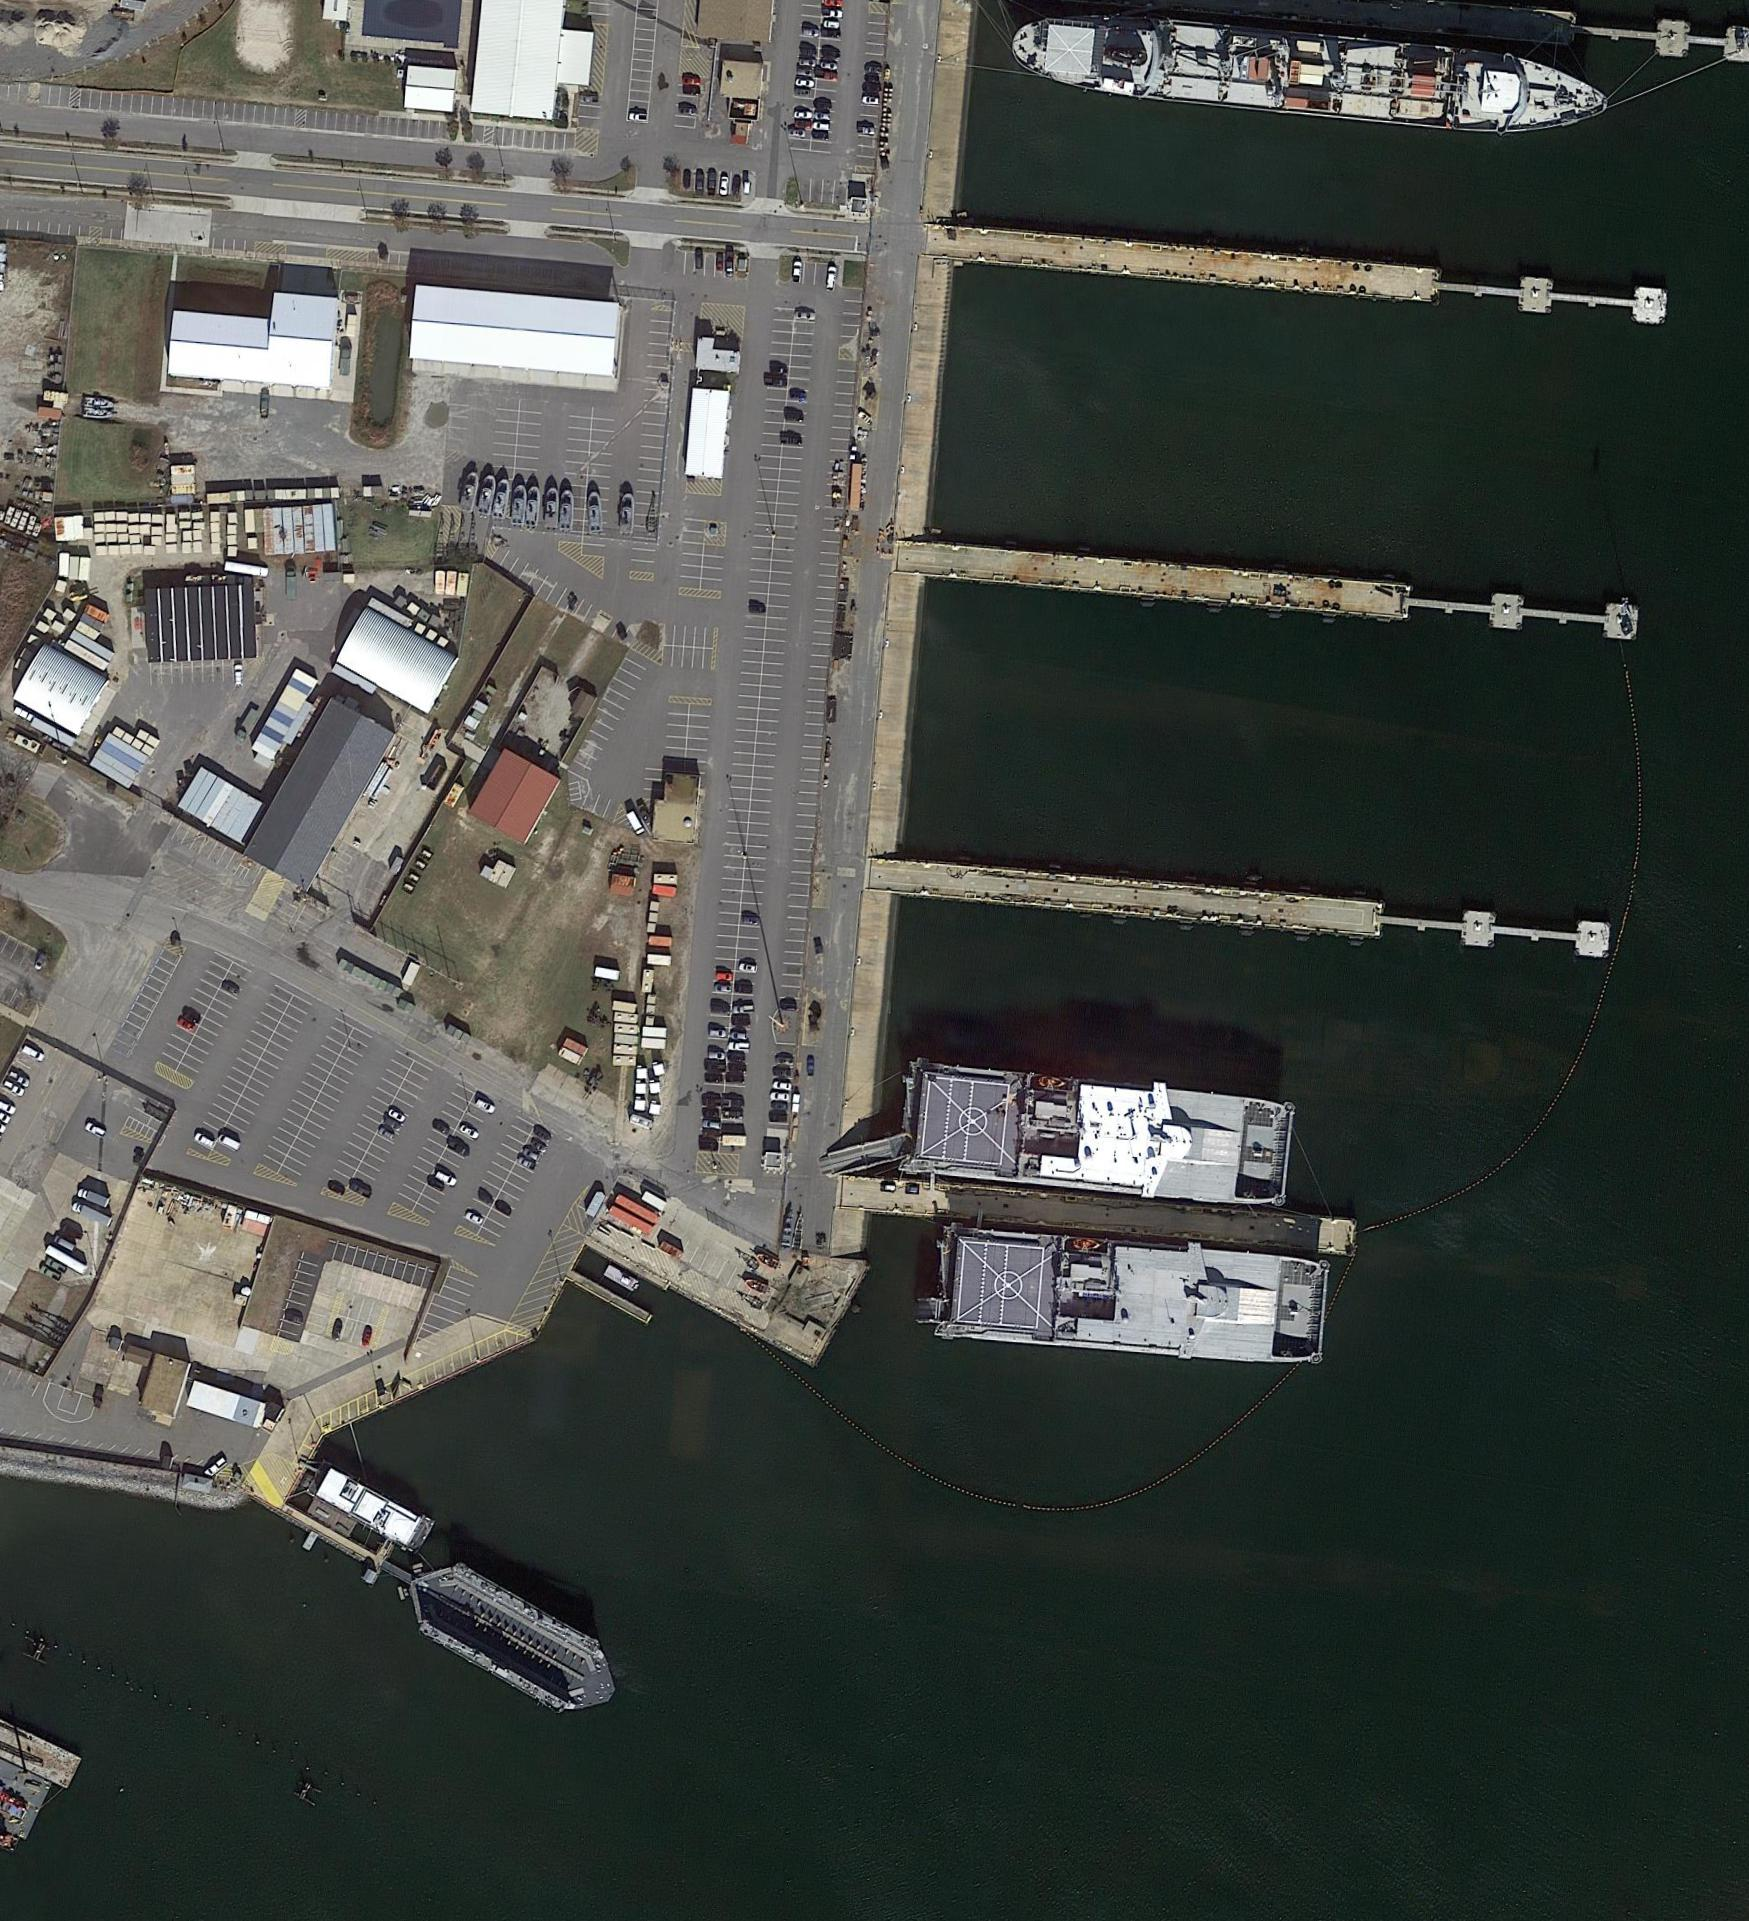harbor: (927, 540, 1640, 643), (959, 224, 1669, 325), (902, 858, 1610, 957), (874, 1178, 1357, 1258), (274, 1486, 397, 1573), (566, 1268, 653, 1325)
ship: (1006, 8, 1610, 146), (900, 1061, 1294, 1212), (934, 1228, 1327, 1367), (392, 1550, 633, 1730), (316, 1468, 437, 1556), (474, 474, 499, 520), (457, 469, 480, 514), (586, 492, 608, 537), (492, 479, 514, 522), (731, 1245, 762, 1273), (510, 480, 527, 529), (750, 1247, 782, 1272), (559, 487, 574, 535), (619, 492, 634, 539), (780, 1206, 797, 1248), (740, 1275, 772, 1297), (735, 1288, 765, 1310), (546, 485, 559, 534), (527, 484, 541, 530), (792, 1212, 807, 1250), (82, 395, 119, 410), (646, 494, 659, 534), (79, 408, 115, 422), (857, 410, 875, 428)
